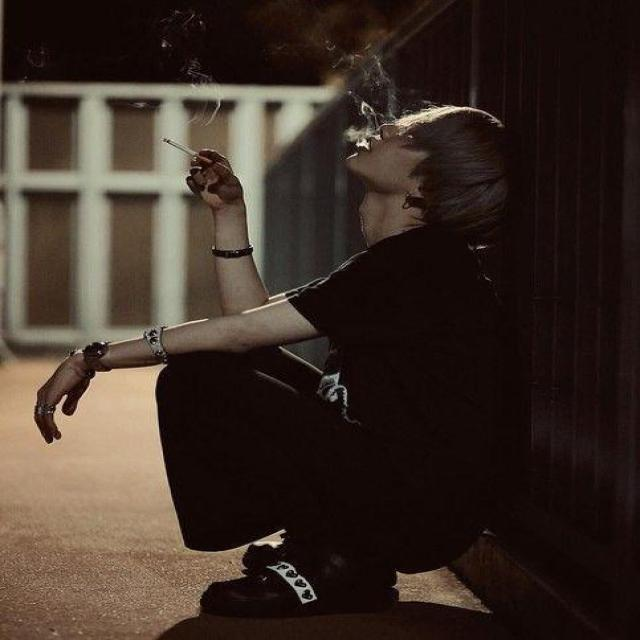cigarette: (147, 124, 200, 155)
